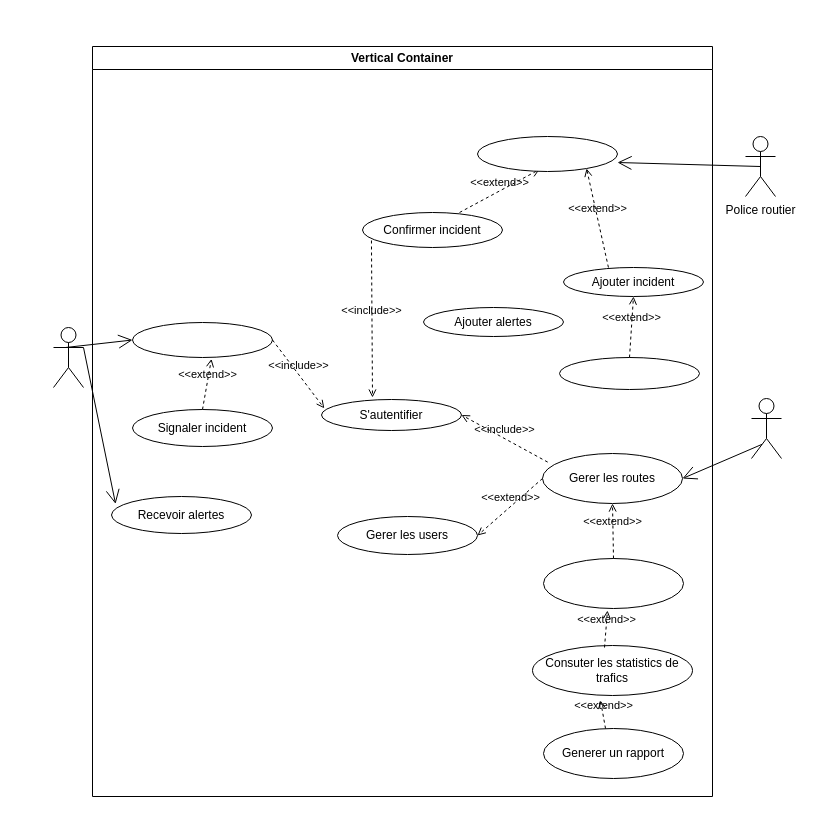
This 822x814 diagram has some shape labels left out. The centre of each missing label's shape, as x and y in pixels:
"Administrateur" goes at (x=766, y=428).
"Consulter les trafics" goes at (x=202, y=340).
"Consulter trafic" goes at (x=547, y=154).
"Gerer les incidents" goes at (x=613, y=583).
"Modifier incident" goes at (x=629, y=373).
"Utilisateur standard" goes at (x=68, y=357).
